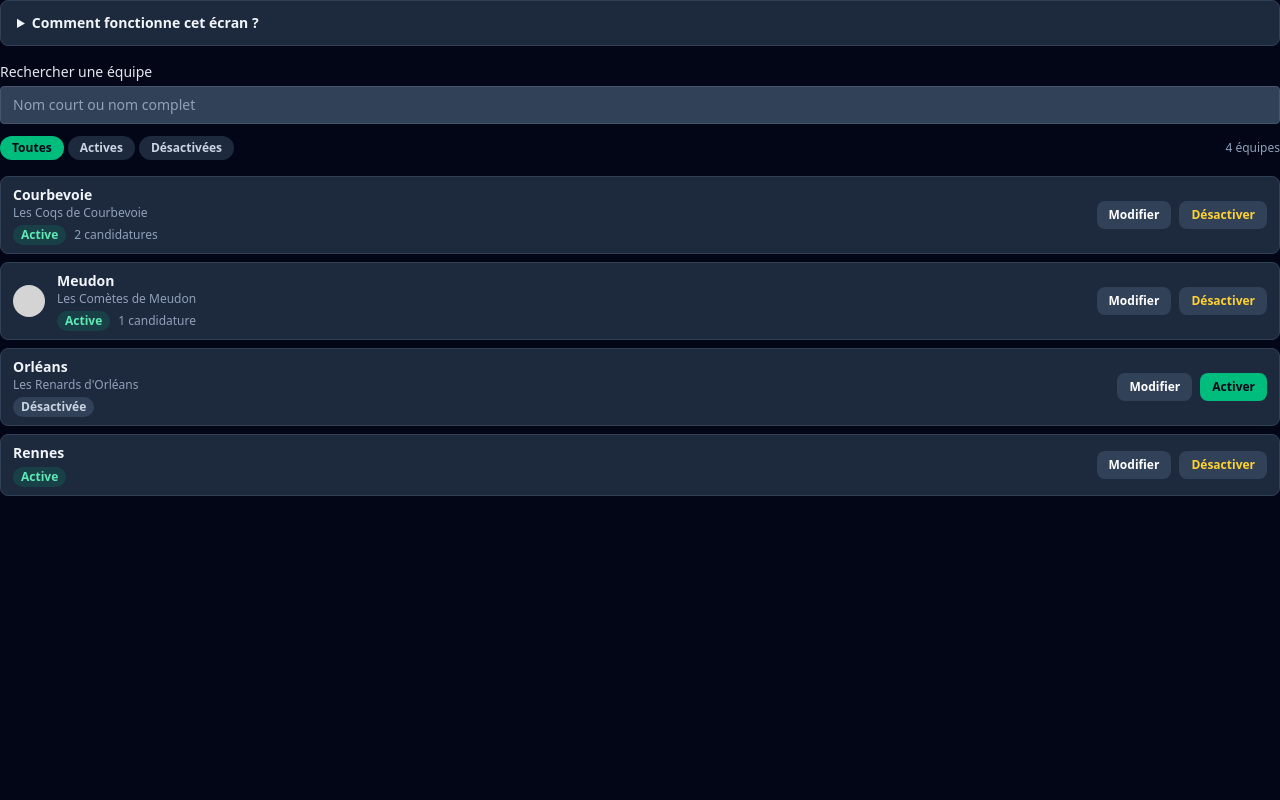
it: GestionEquipesReferentiel — activation et désactivation (CA9) › demande confirmation avant de désactiver, en rappelant l'effet
Click the button with aria-label "Désactiver Rennes" at [1223, 465], box [1179,451,1267,479]
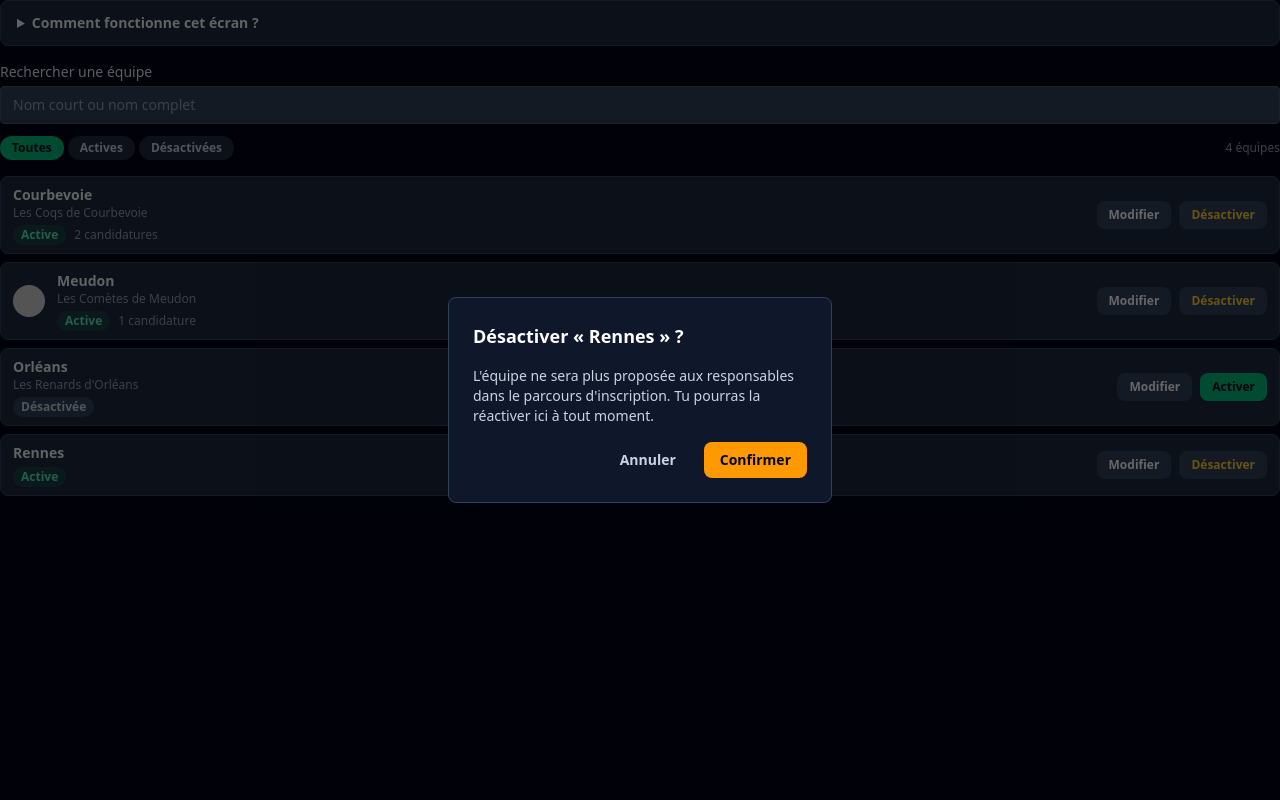
Expected: the dialog "Désactiver « Rennes » ?" does not show "candidature", [448,297,832,503]
Now the dialog "Désactiver « Rennes » ?" shows "L'équipe ne sera plus proposée aux responsables dans le parcours d'inscription.", box [473,366,794,425]
